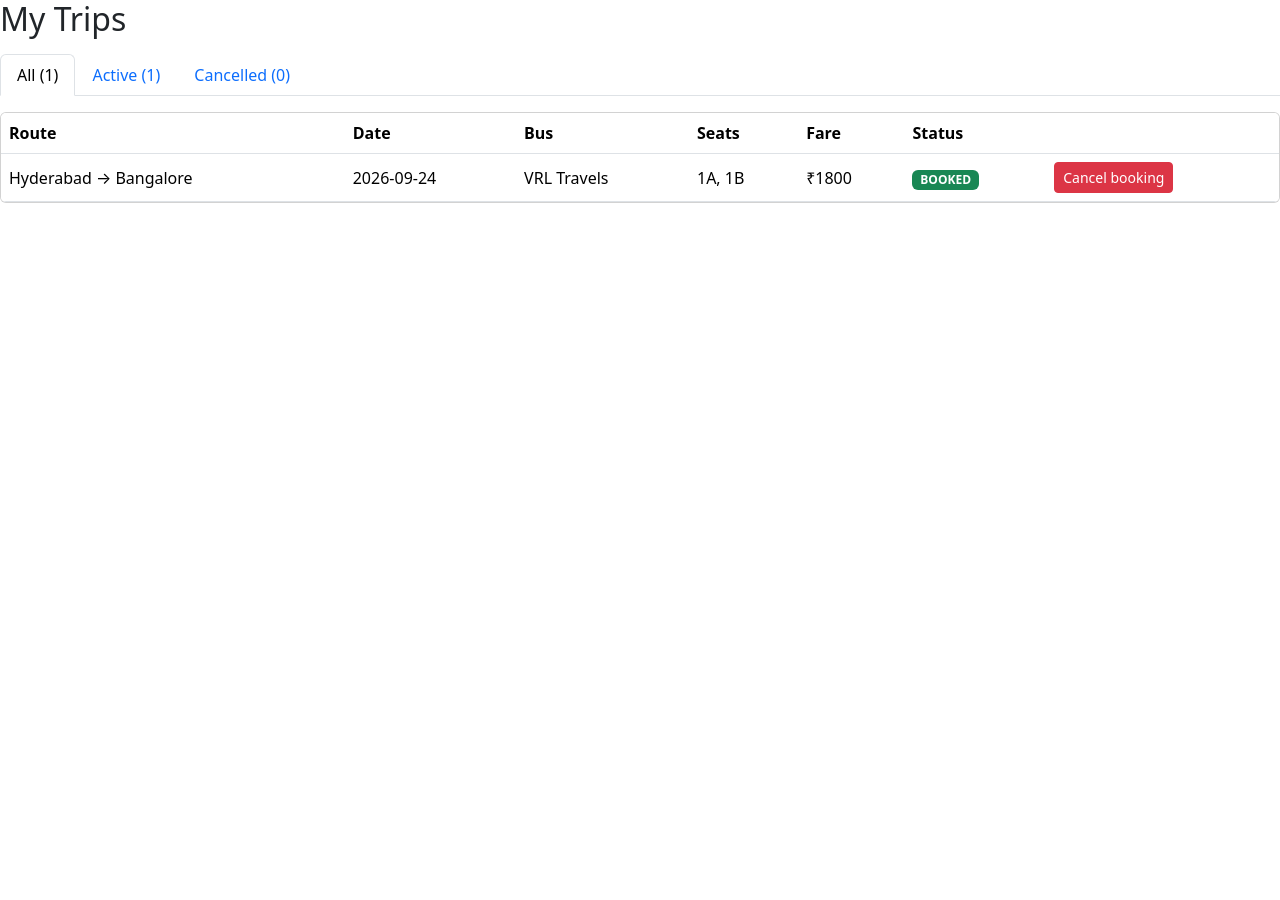
Test case: MyTripsPage › shows the server reason in the dialog when cancelling fails, and reloads on a 409
The width and height of the screenshot is (1280, 900).
What coordinates should you click on to do the following:
click the button "Cancel booking"
I would click on:
 (1114, 178)
Its box is [1054,162,1173,193].
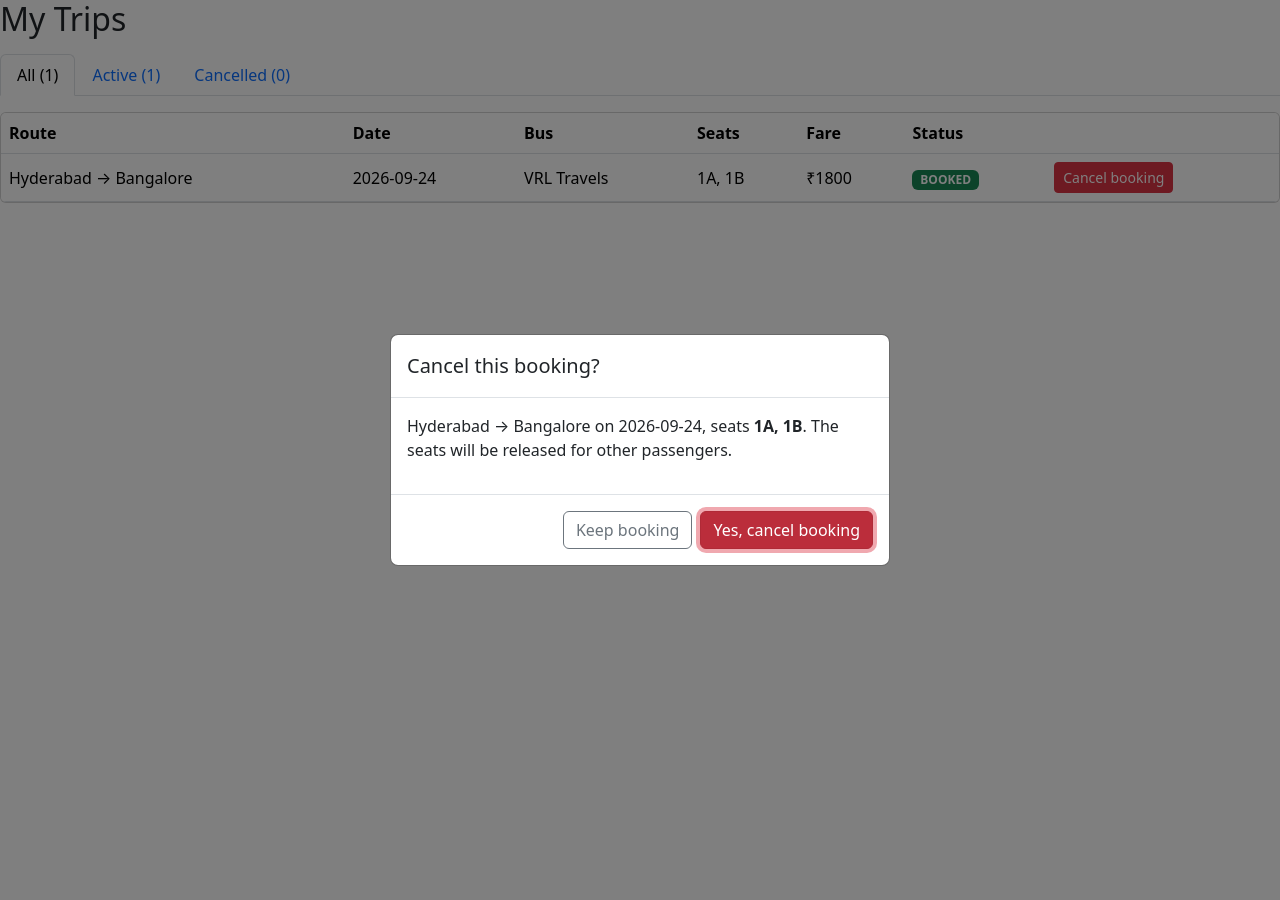
What coordinates should you click on to do the following:
click the button "Yes, cancel booking"
I would click on:
 (787, 530)
Its box is [700,511,873,549].
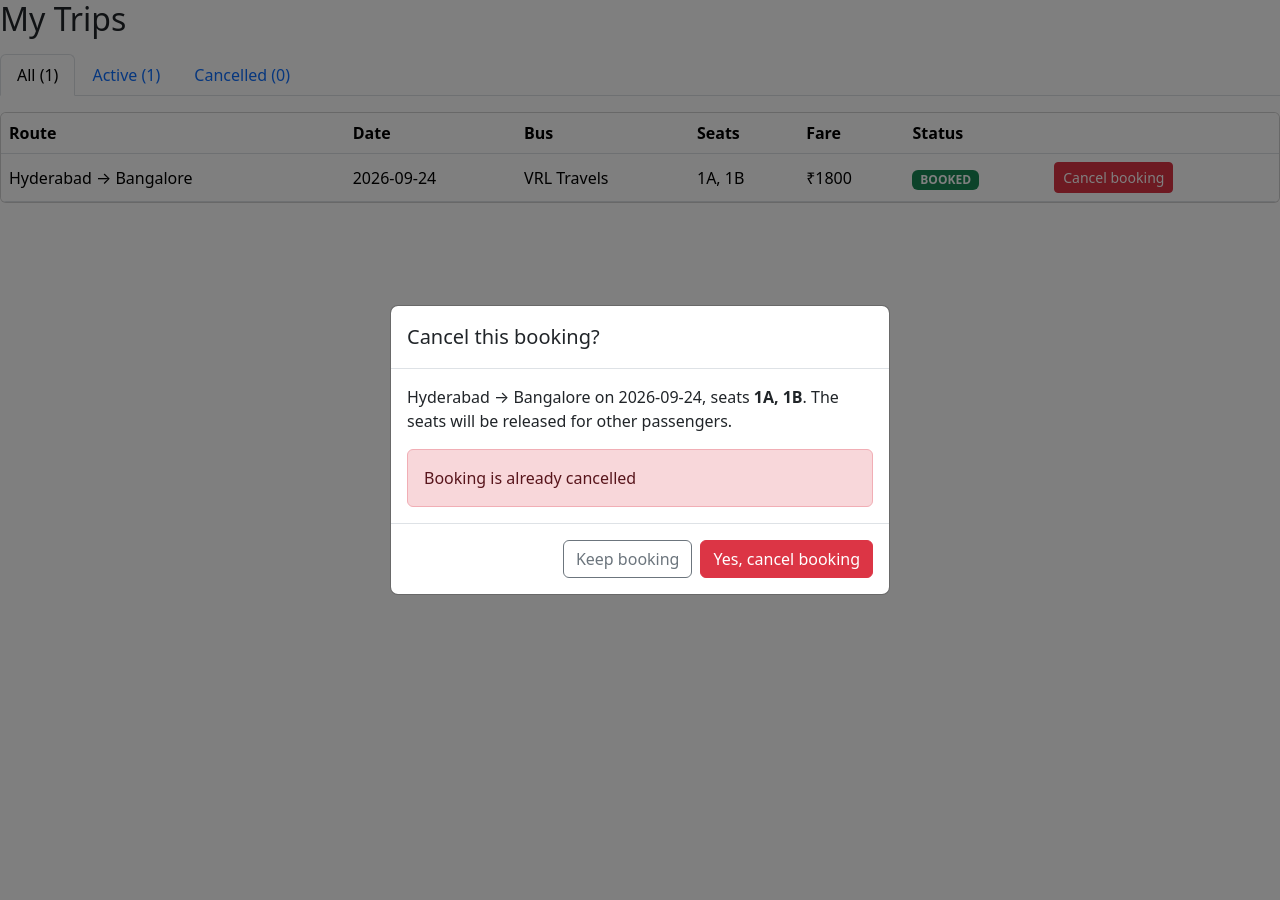
Expected: the message reads "Booking is already cancelled", [424,467,636,489]
